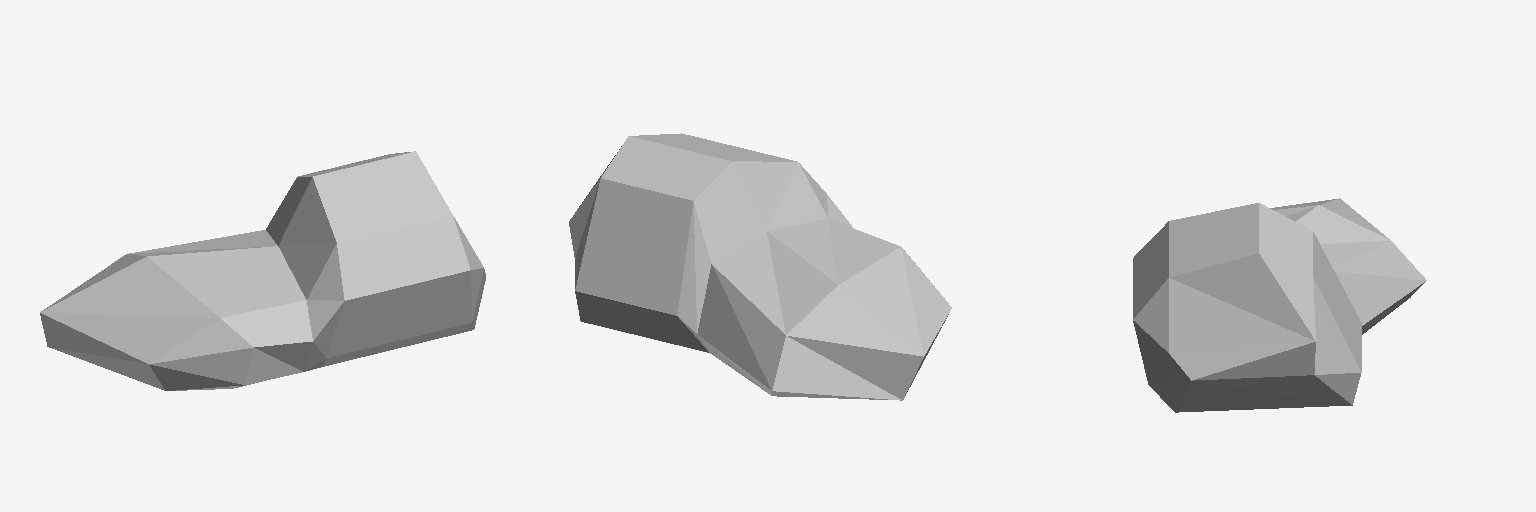
File: cailloux3.obj
The picture shows the model from 3 angles: view 1: azimuth 30°, elevation 25°; view 2: azimuth 150°, elevation 25°; view 3: azimuth 270°, elevation 25°; orthographic projection.
Visible parts, largest first — view 1: lilC:Rock3; view 2: lilC:Rock3; view 3: lilC:Rock3.
Part boxes in pixels (bbox=[...]): lilC:Rock3: bbox=[40, 151, 485, 390]; lilC:Rock3: bbox=[569, 133, 951, 400]; lilC:Rock3: bbox=[1133, 198, 1426, 412].
Size of the model in its own units: 2.38 by 0.9266 by 1.63.